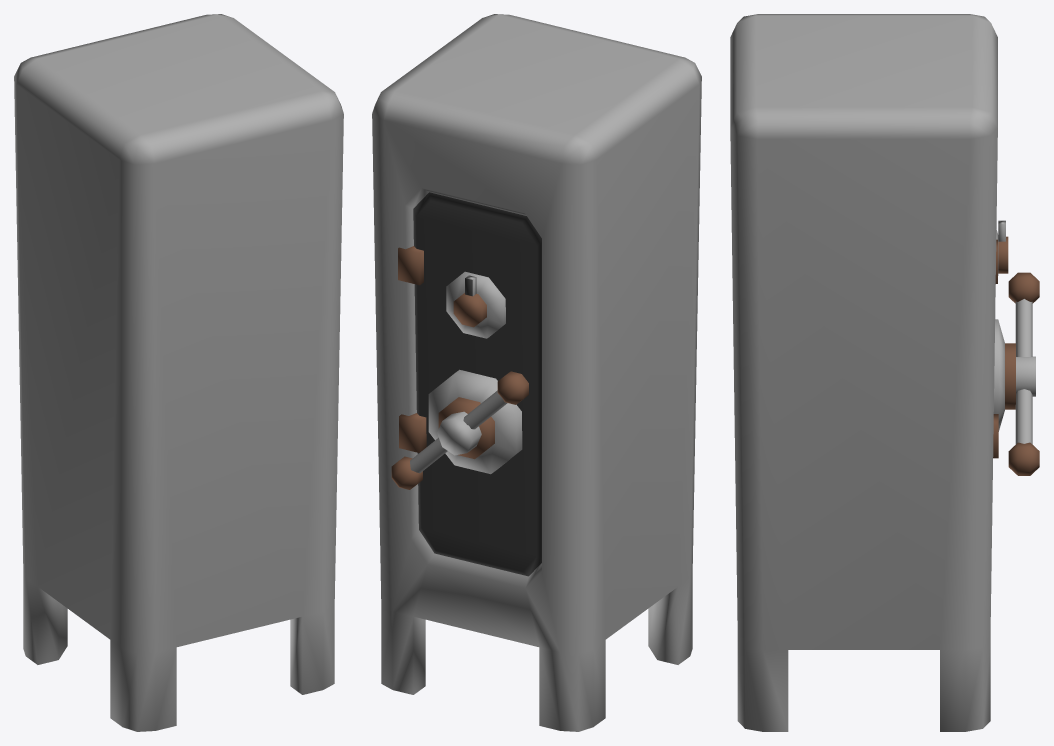
Rendered from mesh_safebox_01.fbx.
3 views of the same model, side by side, from view 1: azimuth 30°, elevation 25°; view 2: azimuth 150°, elevation 25°; view 3: azimuth 270°, elevation 25° (orthographic). The views are drawn at different scales.
Visible parts, largest first — view 1: mesh_safebox_01; view 2: mesh_safebox_01; view 3: mesh_safebox_01.
Part boxes in pixels (box(x1,y1,x2,y2)): mesh_safebox_01: box(14, 14, 343, 731); mesh_safebox_01: box(372, 14, 701, 731); mesh_safebox_01: box(730, 14, 1039, 731).
Size of the model in its own units: 20 by 50.88 by 23.12.
